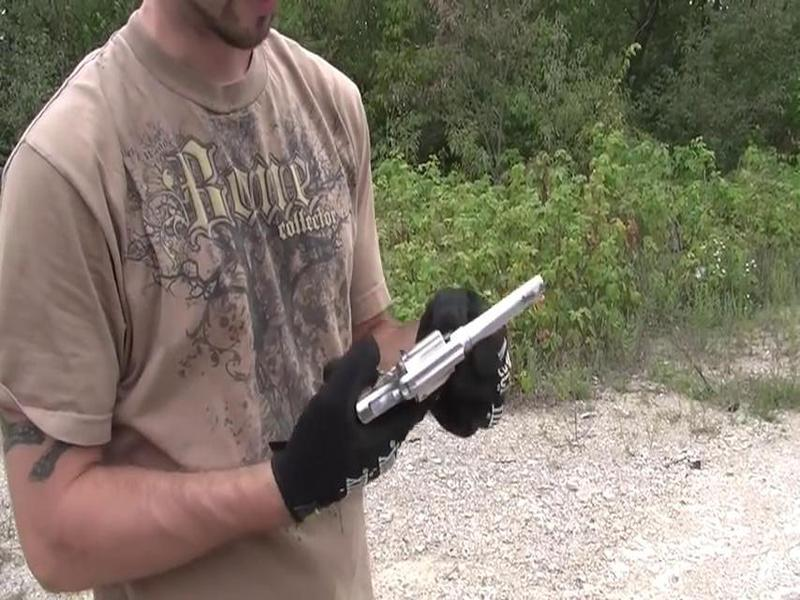Revolver: (355, 274, 556, 424)
